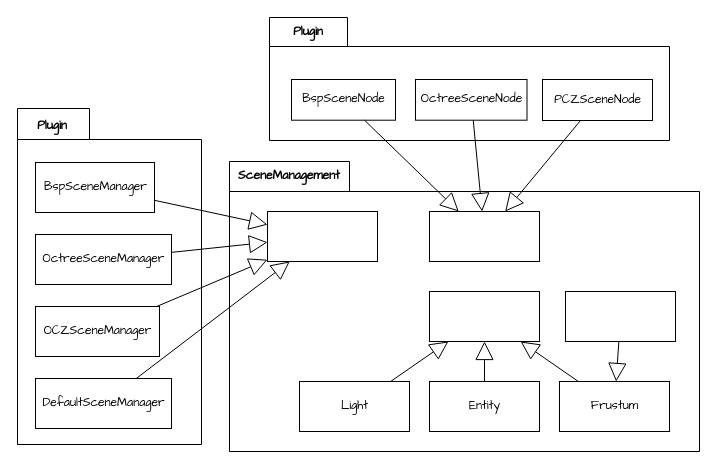
Image size: 717x469. Some labels were removed from this diagram. The box of each missing label's shape, as (x1, y1, x2, y2) in pixels:
Camera: (564, 290, 676, 342)
MovableObject: (428, 290, 540, 342)
SceneManager: (266, 210, 378, 262)
SceneNode: (428, 210, 540, 262)
